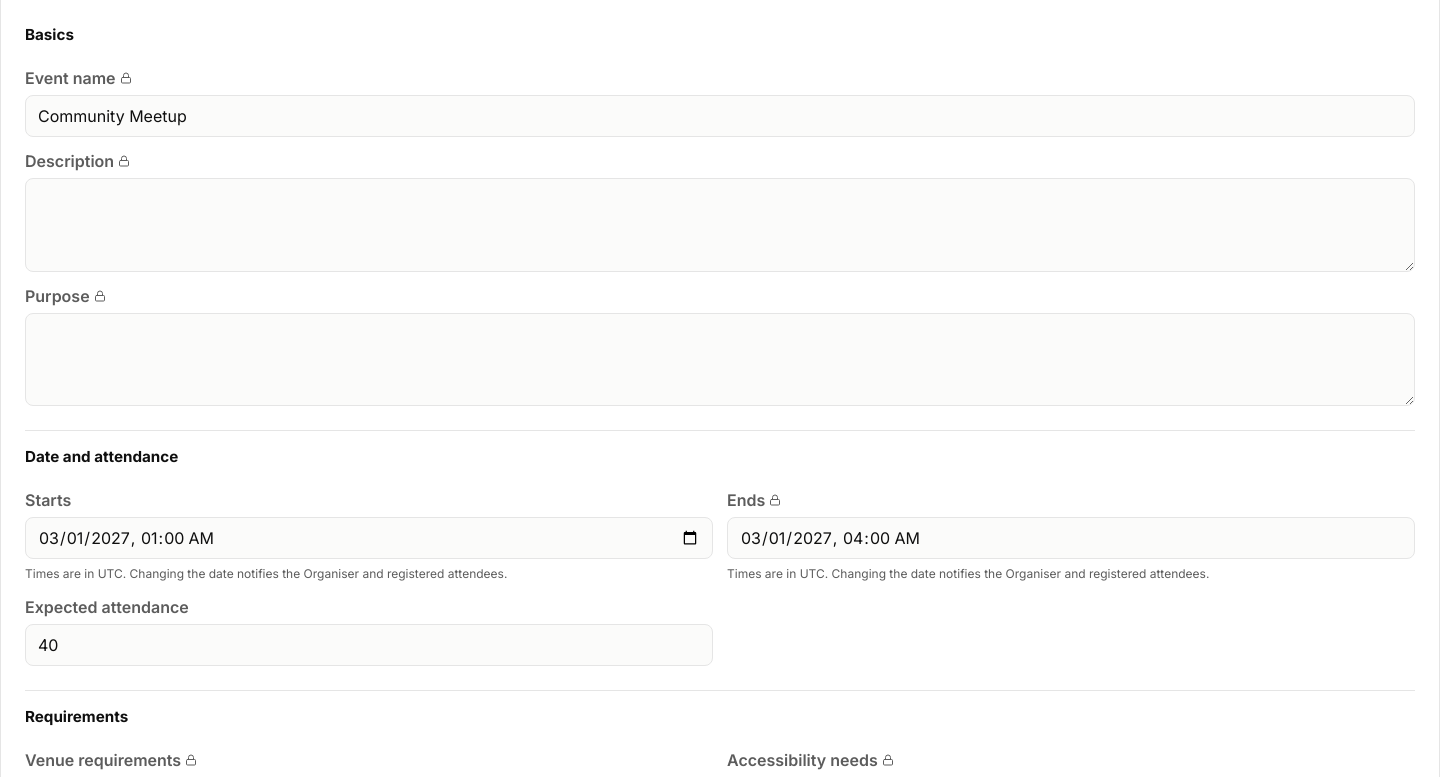
Test: TC_E10S01_03: an attempted date is transferred as the proposed Singapore-time input
(page scrolled)
Replace the text in the field labelled "Starts" with "2027-03-01T01:30" at {"x": 369, "y": 538}, box left=25, top=517, right=713, bottom=559
(page scrolled)
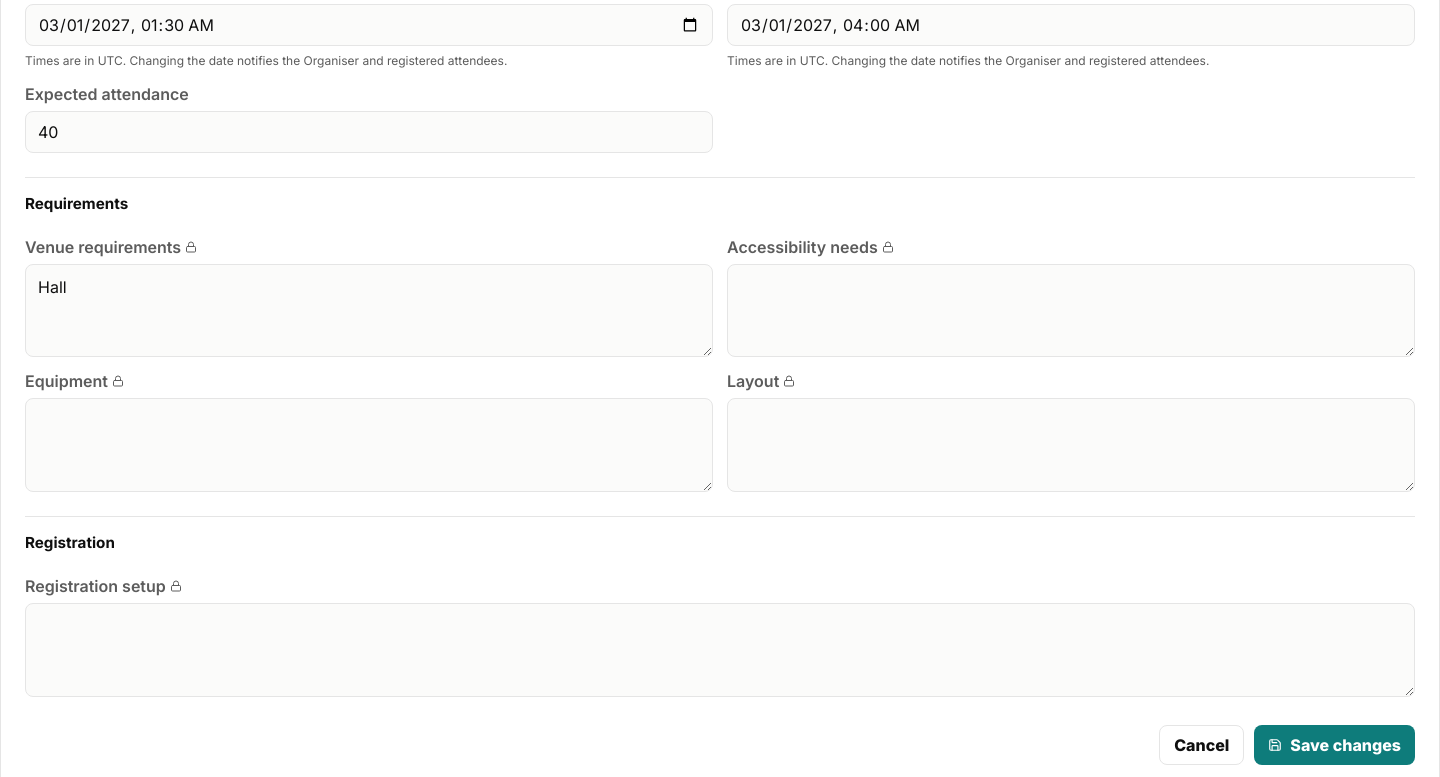
Click the button "Save changes" at {"x": 1335, "y": 745}, box left=1254, top=725, right=1415, bottom=765
(page scrolled)
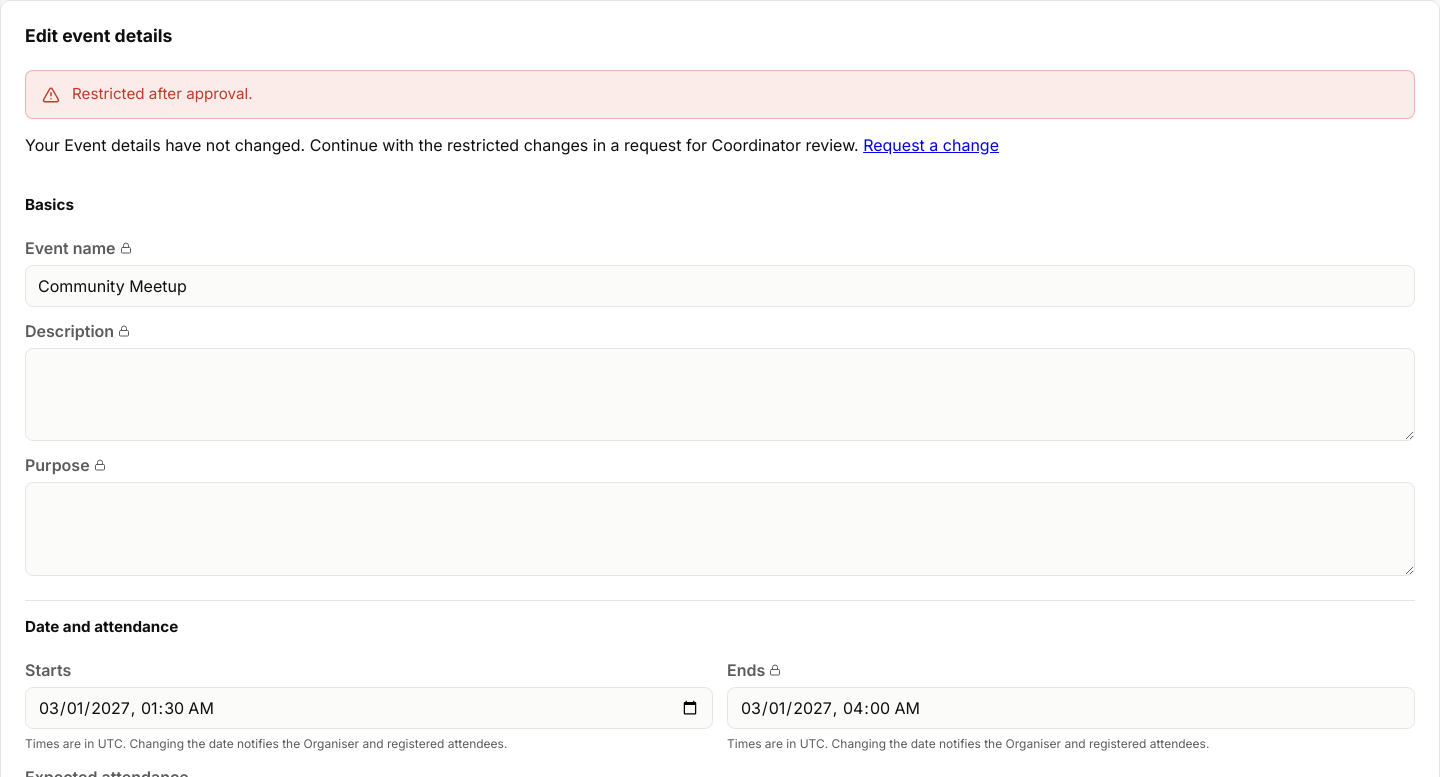
Click the link "Request a change" at {"x": 931, "y": 145}, box left=863, top=135, right=999, bottom=155
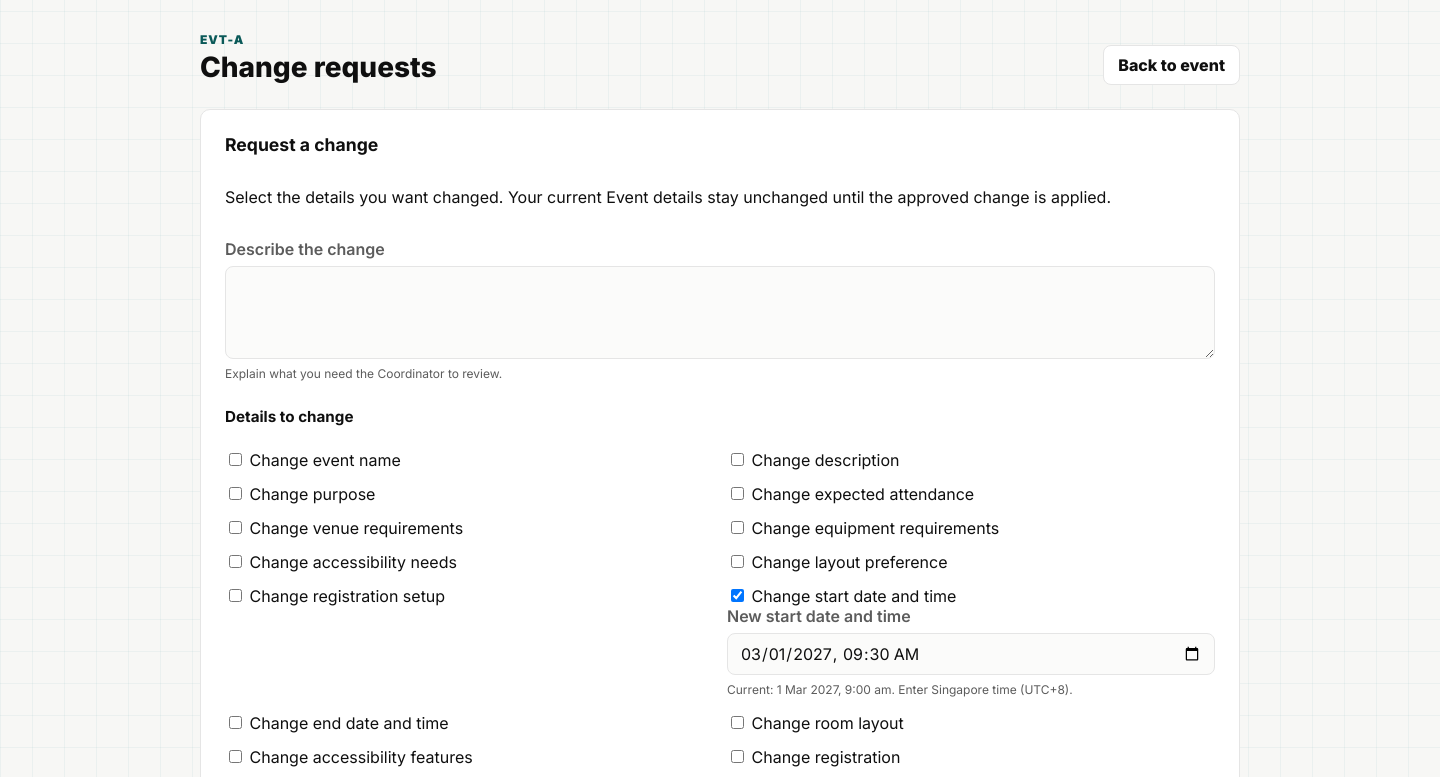
Now the field labelled "New start date and time" holds "2027-03-01T09:30", box left=727, top=633, right=1215, bottom=675
